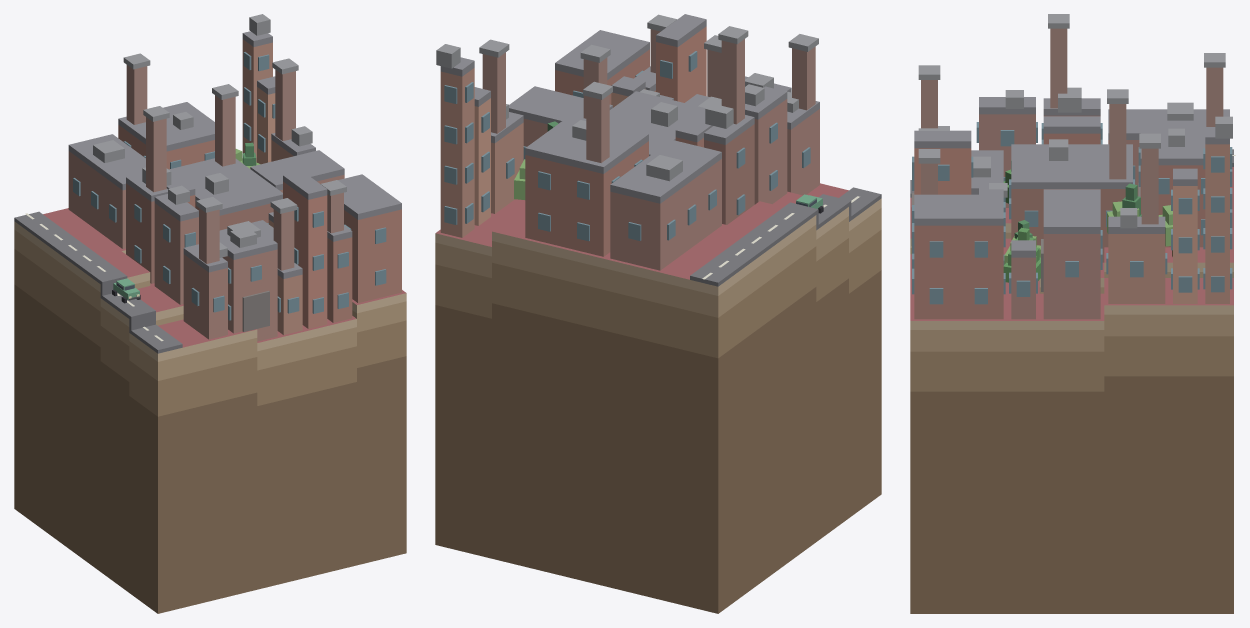
Rendered from block_26_leakingdam_0.glb.
3 renders of one model, left to right at view 1: azimuth 30°, elevation 25°; view 2: azimuth 150°, elevation 25°; view 3: azimuth 270°, elevation 25°, orthographic. The views are drawn at different scales.
Parts seen in each view (by area): view 1: Patch_UpperRight_b26_LD, Factories_UpperRight_b26_LD, Roads_UpperRight_b26_LD; view 2: Patch_UpperRight_b26_LD, Factories_UpperRight_b26_LD, Roads_UpperRight_b26_LD; view 3: Patch_UpperRight_b26_LD, Factories_UpperRight_b26_LD, FTree_13_LD.
Part boxes in pixels (bbox=[...]): Patch_UpperRight_b26_LD: bbox=[14, 208, 406, 613]; Factories_UpperRight_b26_LD: bbox=[68, 14, 401, 341]; Roads_UpperRight_b26_LD: bbox=[14, 211, 182, 353]; Patch_UpperRight_b26_LD: bbox=[435, 183, 881, 613]; Factories_UpperRight_b26_LD: bbox=[436, 14, 819, 270]; Roads_UpperRight_b26_LD: bbox=[690, 187, 881, 286]; Patch_UpperRight_b26_LD: bbox=[910, 167, 1233, 613]; Factories_UpperRight_b26_LD: bbox=[911, 14, 1232, 319]; FTree_13_LD: bbox=[1003, 227, 1040, 282].
Size of the model in its own units: 9.5 by 16.01 by 9.55.
